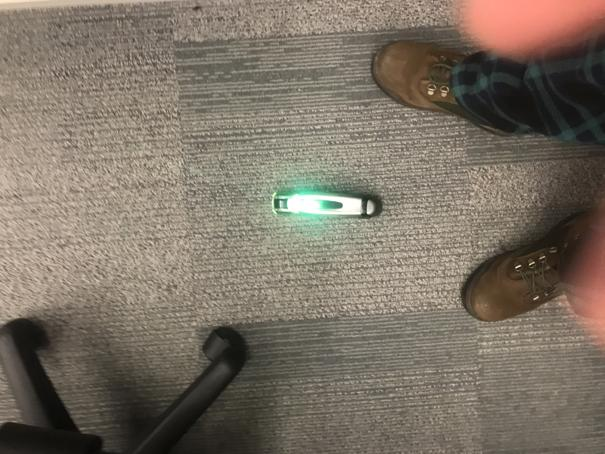Freewheel: (270, 186, 383, 221)
